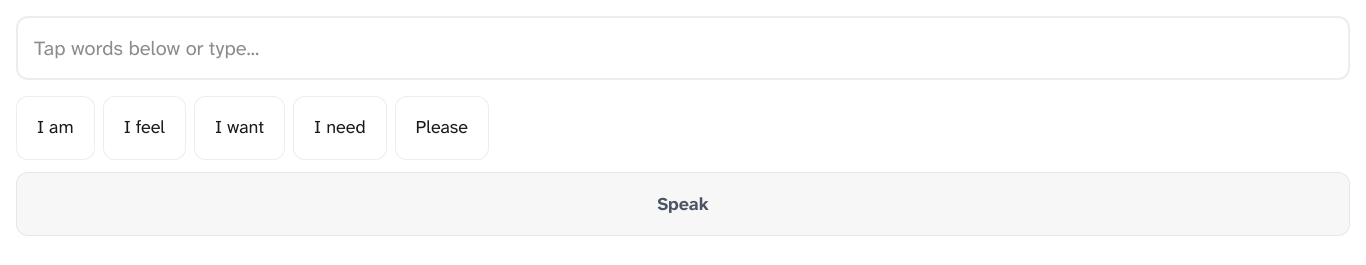
Test: SentenceBuilder › undo pops the last token when pendingFree is empty
Step 1. Click the button "I am" → (55, 128), box [16,96,95,160]
Wait 310 ms
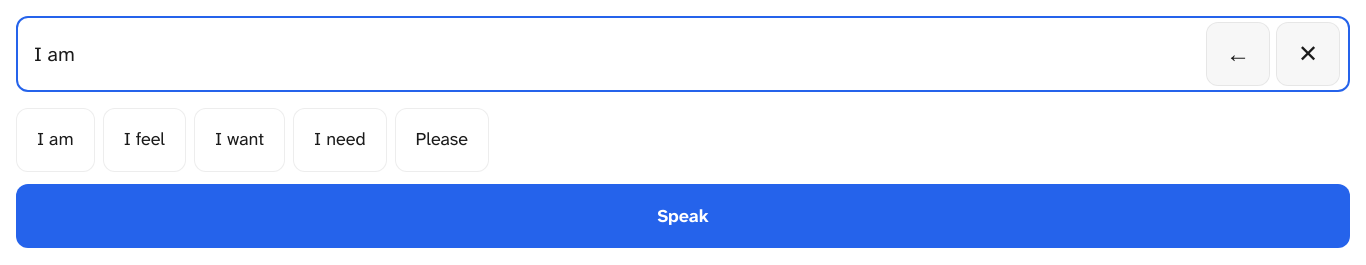
Step 2. Click the button "I feel" → (144, 140), box [103,108,186,172]
Wait 310 ms
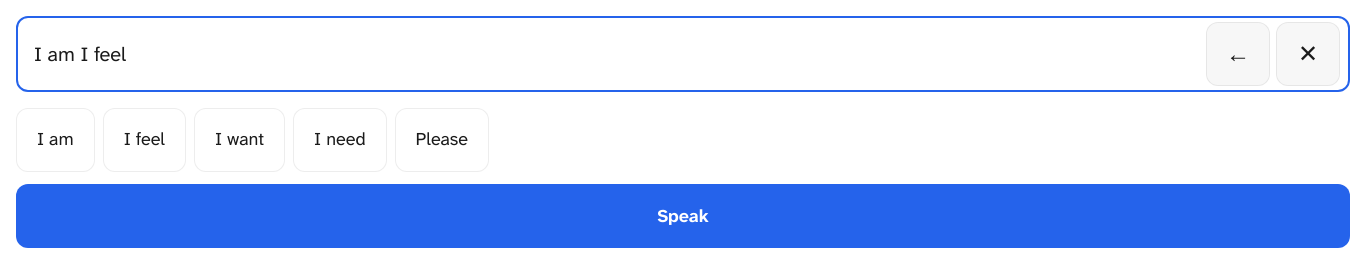
Now the text with test id "token-display" shows "I am", box [34,41,126,67]
Now the text with test id "token-display" shows "I feel", box [34,41,126,67]
Undo removes the last token
Step 3. Click the button named "Undo last word" → (1238, 54), box [1206,22,1270,86]
Wait 10 ms
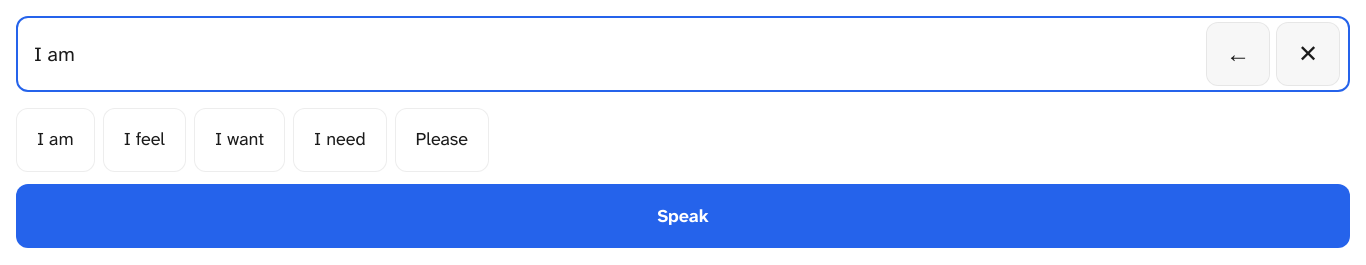
Expected: the text with test id "token-display" reads "I am", [34,41,75,67]
Now the element with test id "token-display" no longer shows "I feel"
